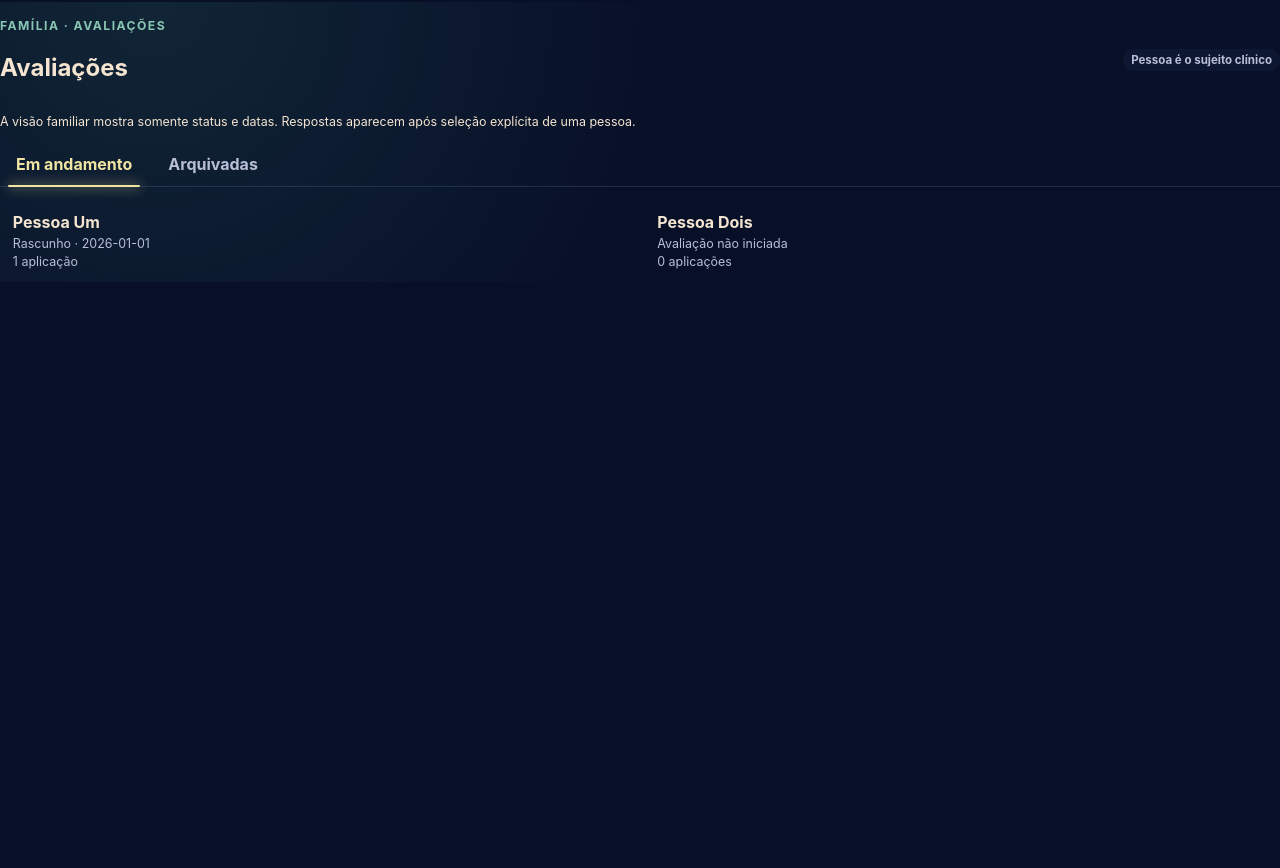
Test: interface de avaliações na família › mostra revisão manual de aplicabilidade e preserva o valor
This screenshot has width=1280, height=868.
Click the button "Pessoa Um Rascunho · 2026-01-01 1 aplicação" at (56, 222), box 0,200 -> 636,282
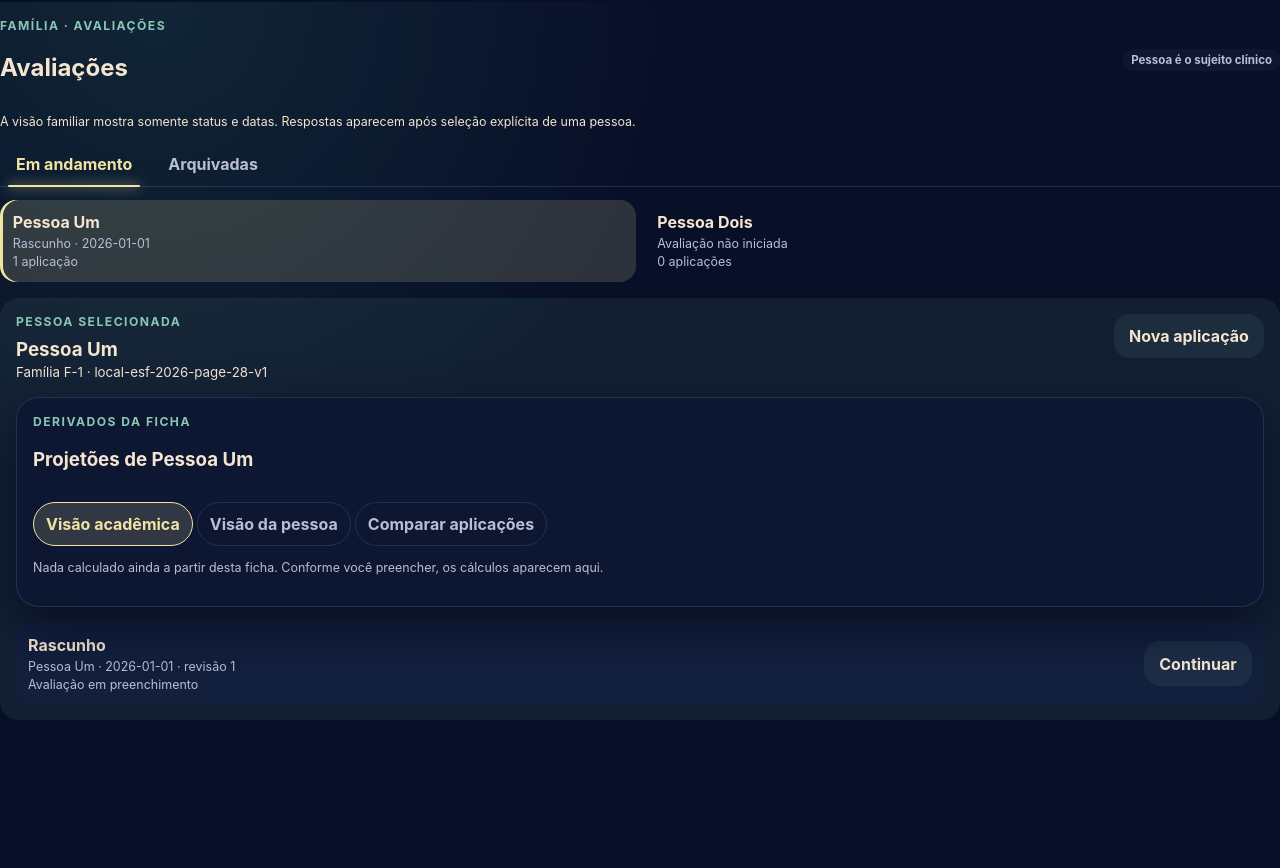
Click the button "Continuar" at (1198, 664), box 1144,641 -> 1252,686
(page scrolled)
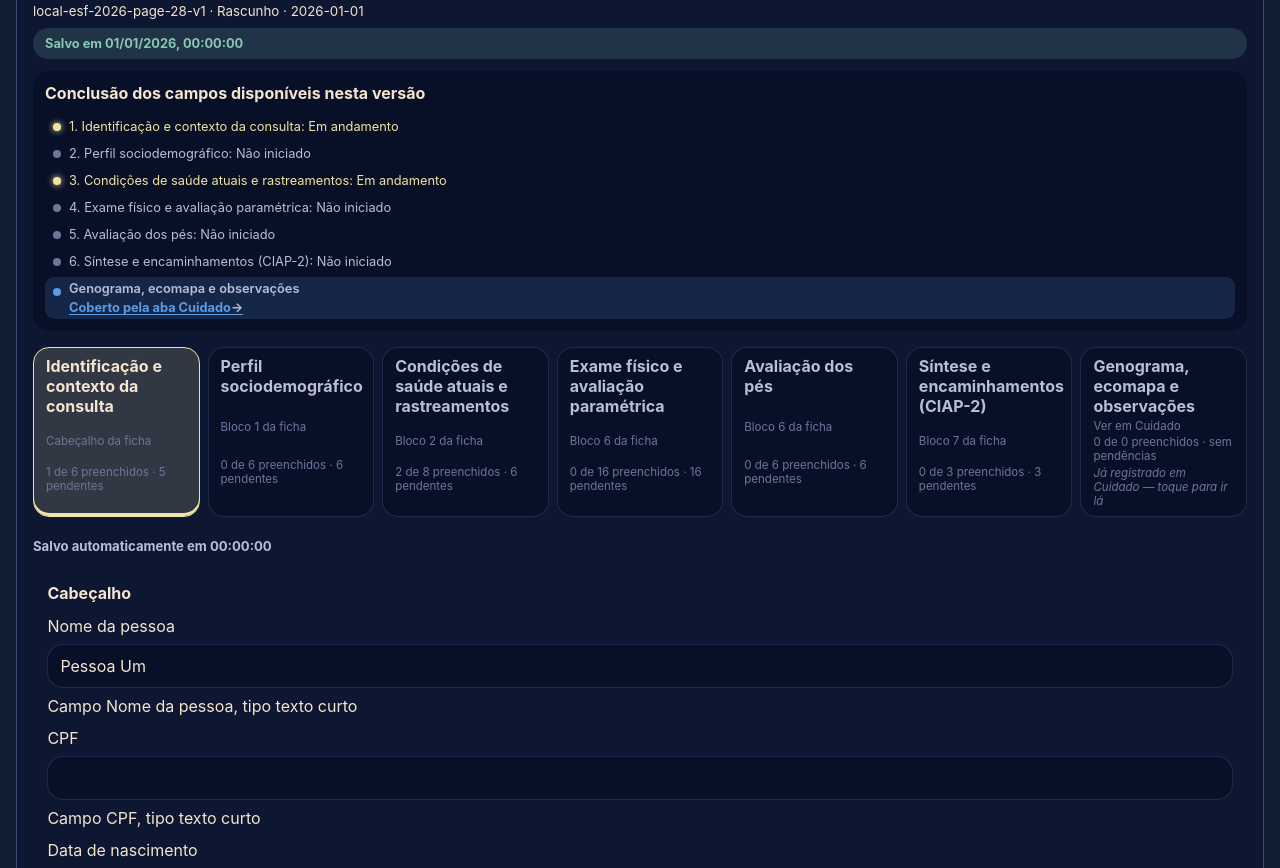
Click the tab "Bloco 2" at (465, 432), box 382,347 -> 549,517
(page scrolled)
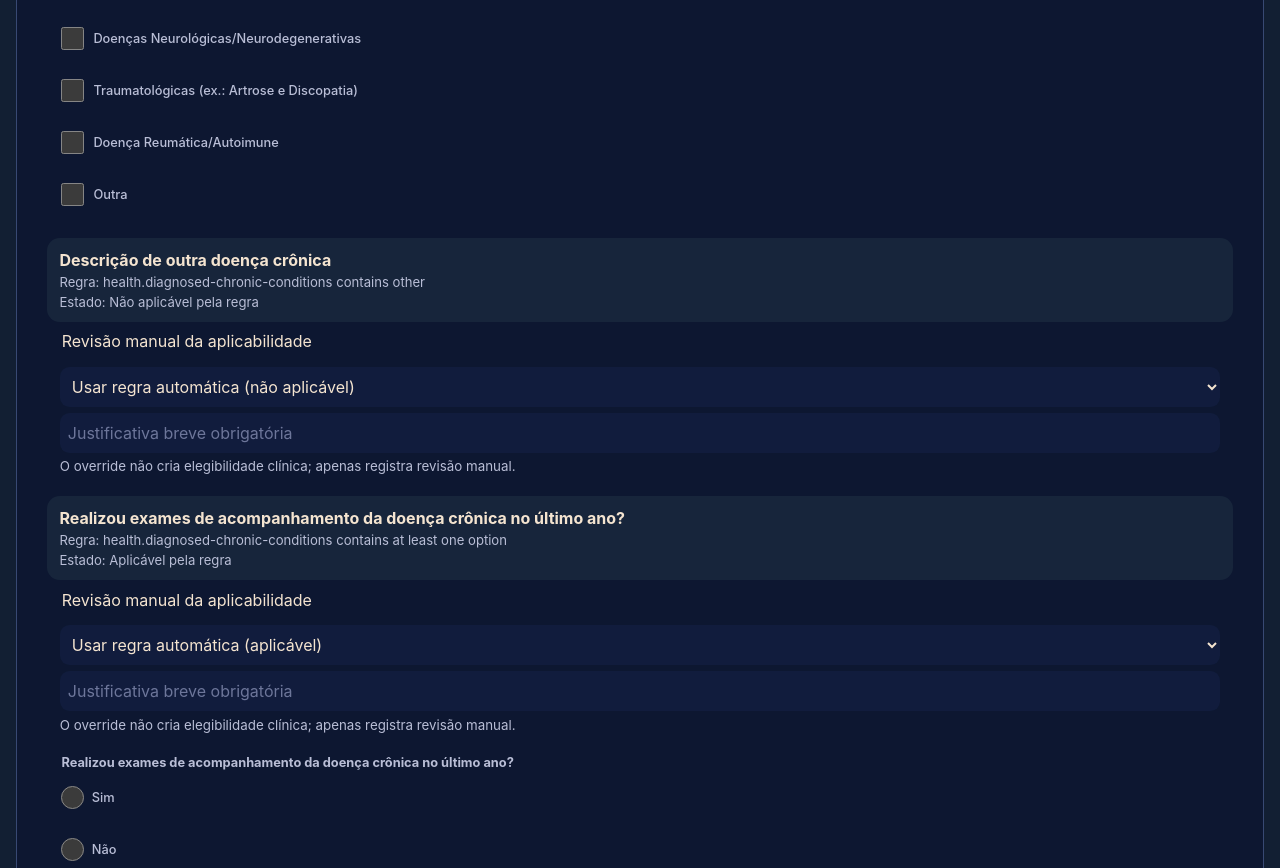
Type "Revisão manual local" into the field with placeholder "Justificativa breve obrigatória" below "Não aplicável pela regra" at (640, 433), box 60,413 -> 1220,453
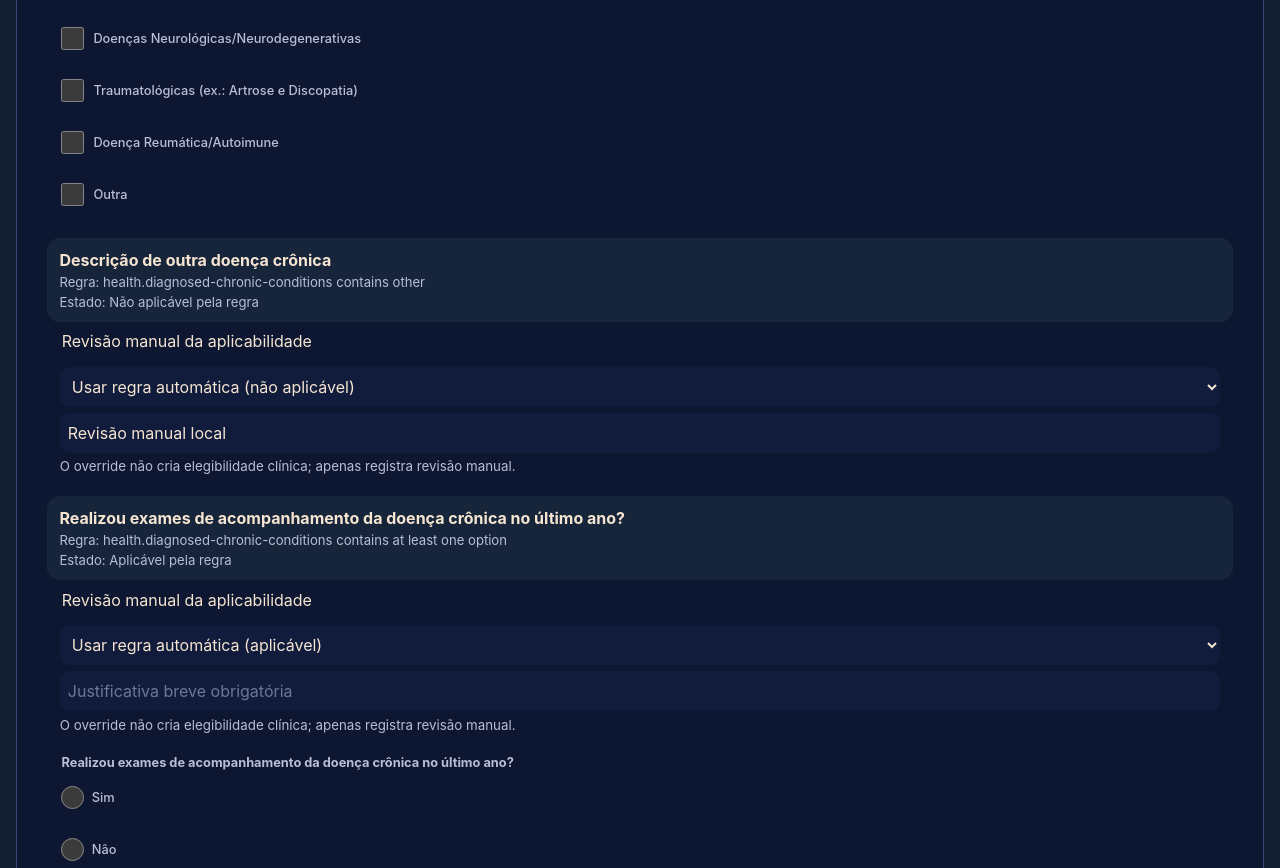
Select "Não aplicável por override manual" in the dropdown showing "Usar regra automática" below "Não aplicável pela regra" at (640, 387), box 60,367 -> 1220,407
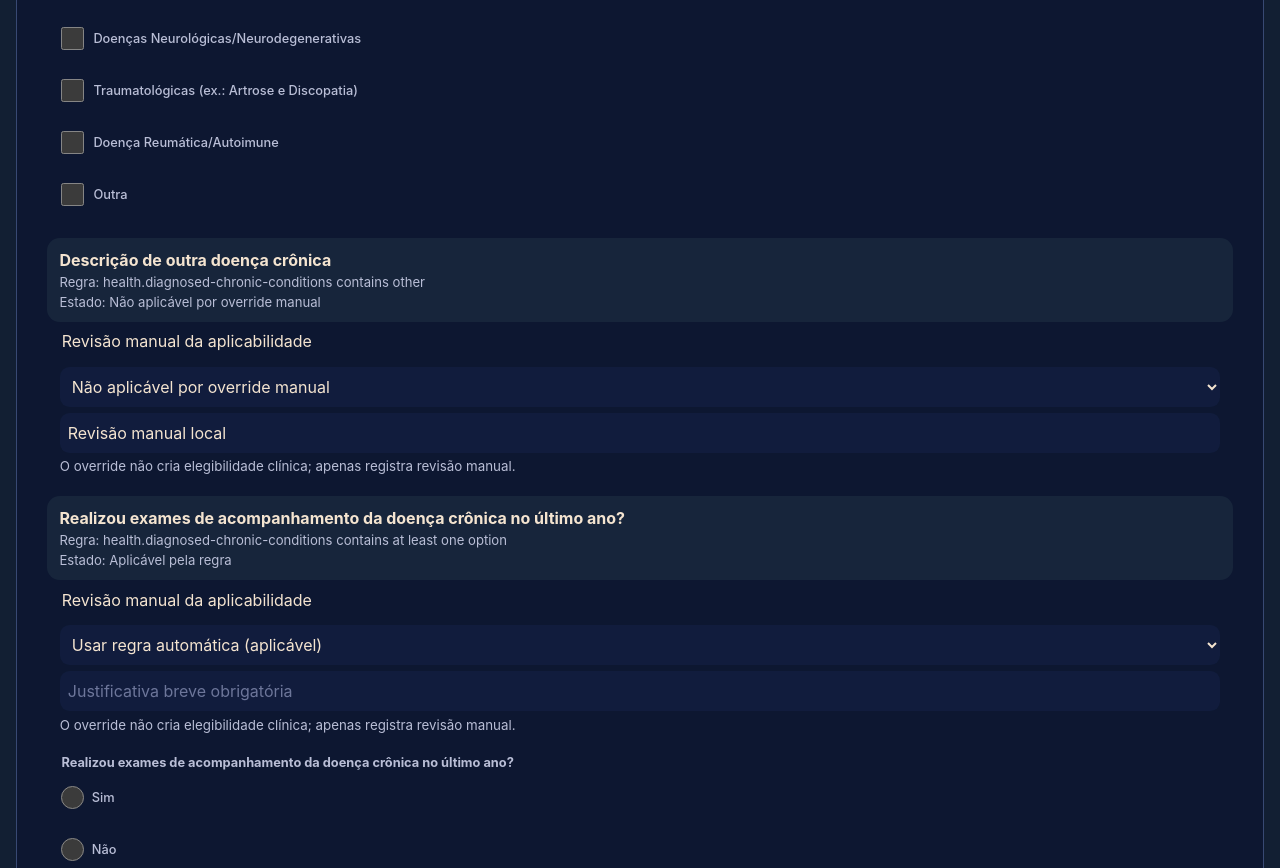
Now the text "Estado: Não aplicável por override manual" is shown, box 59,294 -> 321,310
